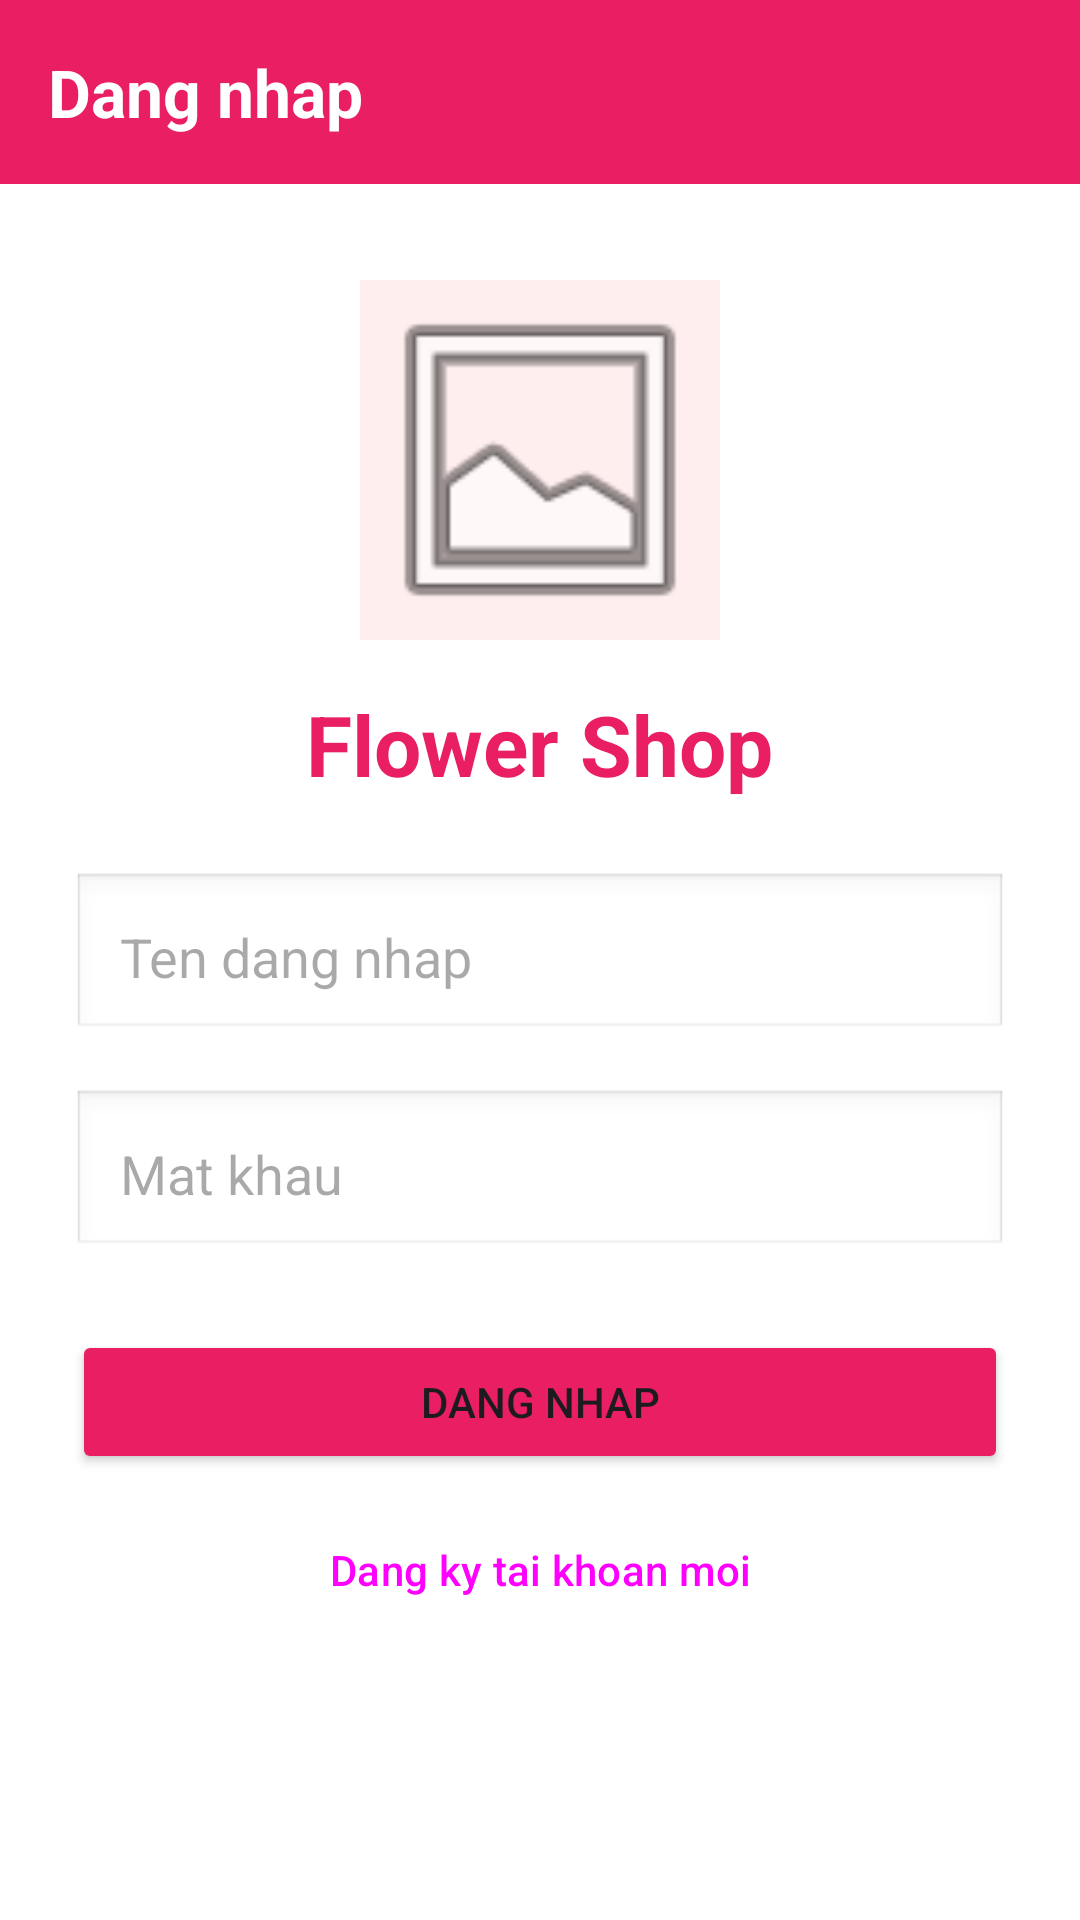

Screen size 1080px×1920px. Icon name, then its box in pixels as bbox=(x1, y1, x2, y2):
gallery: bbox=(360, 280, 720, 640)
